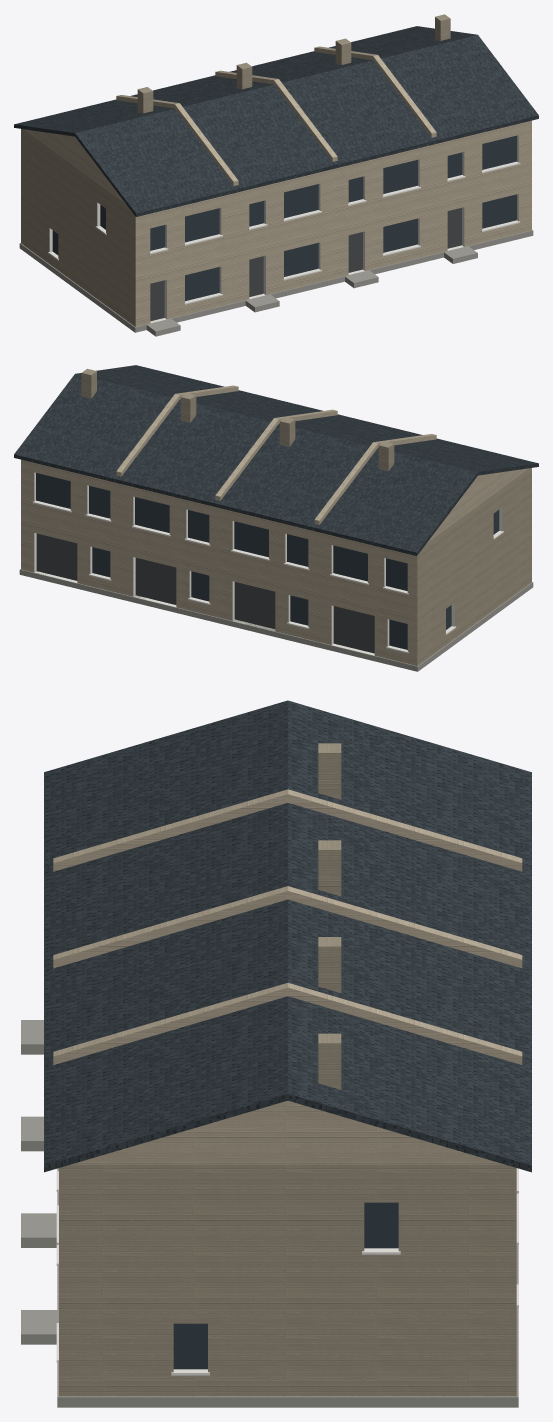
Rendered from rowhouses.glb.
3 views of the same model, one above another, from view 1: azimuth 30°, elevation 25°; view 2: azimuth 150°, elevation 25°; view 3: azimuth 270°, elevation 25° (orthographic). The views are drawn at different scales.
Visible parts, largest first — view 1: rowhouses; view 2: rowhouses; view 3: rowhouses.
Boxes of the visible parts, x1=… form: rowhouses: x1=14, y1=14, x2=538, y2=336; rowhouses: x1=14, y1=365, x2=538, y2=671; rowhouses: x1=21, y1=700, x2=531, y2=1407.
Bounding box in the file's own units: 24.4 × 10.05 × 13.4.
7 materials, 3 textured.
